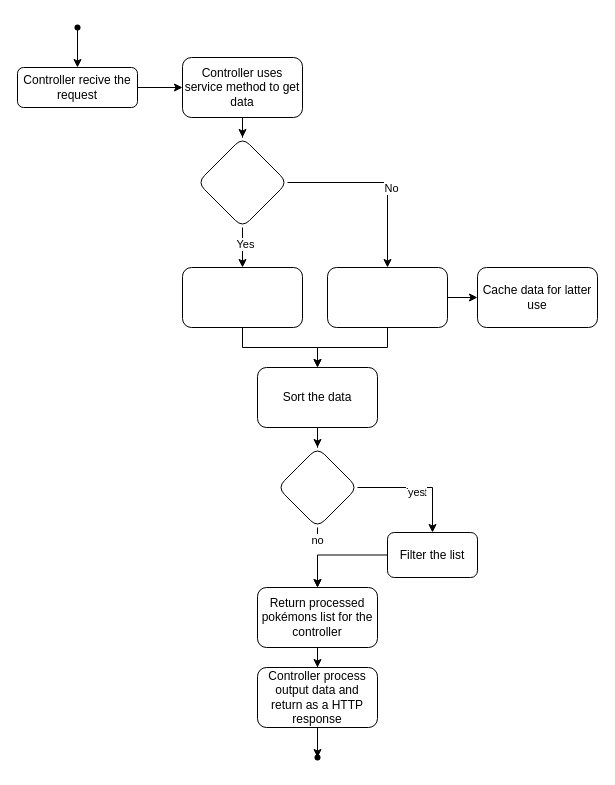
Some shapes in this 615 by 785 pixel diagram are drawn without their labels. Here are the shapes that lost their labels. From the top down, the box of each, then its label:
(196, 136, 288, 228): Have cache?
(182, 266, 302, 328): Load the cached data
(326, 266, 448, 328): Make a request to the PokemonAPI To get the data
(276, 446, 358, 528): Have query?
